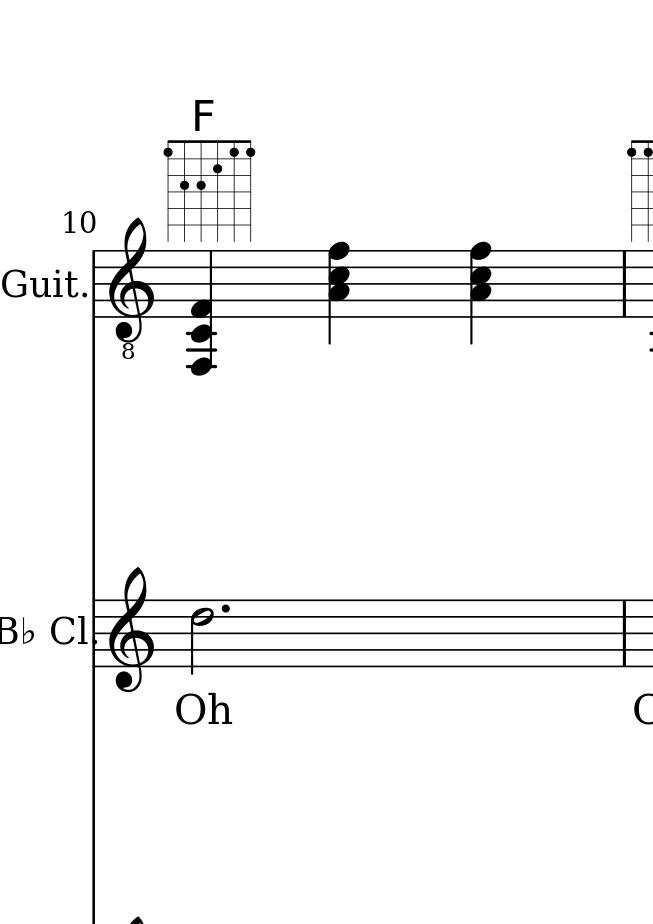0: (79, 208, 97, 238)
1: (62, 208, 78, 238)
2_6: (189, 598, 212, 677)
4_th: (187, 250, 219, 378), (326, 241, 349, 347), (468, 240, 491, 344)
Cl: (49, 612, 86, 649)
Fretboard: (163, 138, 252, 242)
Gclef: (108, 567, 157, 695)
Guit: (2, 267, 82, 308)
Lower_Gclef: (109, 218, 157, 363)
Single_barline: (617, 248, 634, 320), (618, 599, 633, 669), (89, 600, 103, 668), (88, 250, 99, 318)
dot: (216, 597, 234, 618), (218, 602, 231, 615)
